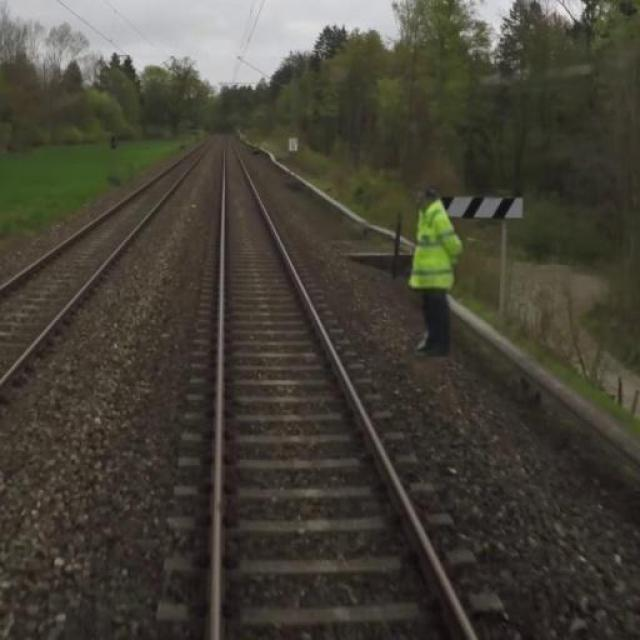people: (402, 185, 468, 363)
